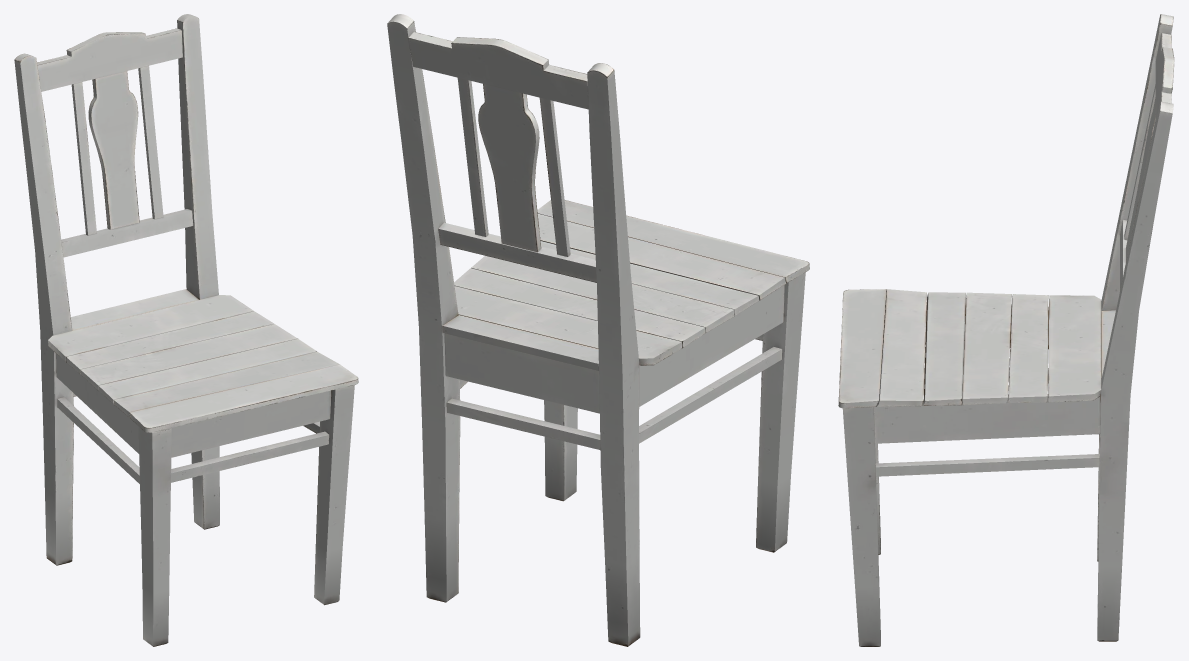
The model's file is Painted Wooden Chair1.gltf.
3 renders of one model, left to right at view 1: azimuth 30°, elevation 25°; view 2: azimuth 150°, elevation 25°; view 3: azimuth 270°, elevation 25°, orthographic. The views are drawn at different scales.
Parts seen in each view (by area): view 1: painted_wooden_chair_01; view 2: painted_wooden_chair_01; view 3: painted_wooden_chair_01.
Part boxes in pixels (x1,y1,x2,y2): painted_wooden_chair_01: [14, 14, 358, 646]; painted_wooden_chair_01: [387, 14, 809, 646]; painted_wooden_chair_01: [838, 14, 1174, 646].
Bounding box in the file's own units: 0.4318 × 0.9565 × 0.5398.
Materials: 1 (1 with a texture image).
